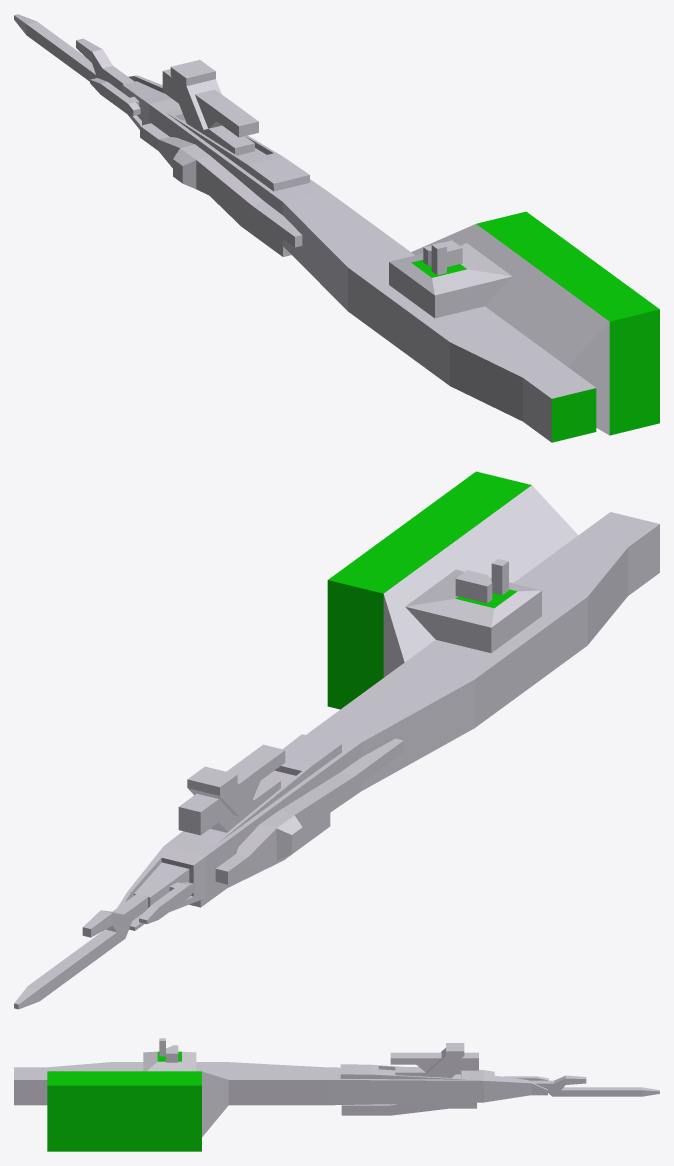
Rendered from Instrument Mast-2.fbx.
3 views of the same model, one above another, from view 1: azimuth 30°, elevation 25°; view 2: azimuth 150°, elevation 25°; view 3: azimuth 270°, elevation 25° (orthographic). The views are drawn at different scales.
Visible parts, largest first — view 1: Instrument Mast-2; view 2: Instrument Mast-2; view 3: Instrument Mast-2.
Boxes of the visible parts, x1,y1,x2,y2 form: Instrument Mast-2: (14,14,659,442); Instrument Mast-2: (14,471,659,1009); Instrument Mast-2: (14,1038,659,1151).
Bounding box in the file's own units: 2.73 × 2.19 × 16.47.
